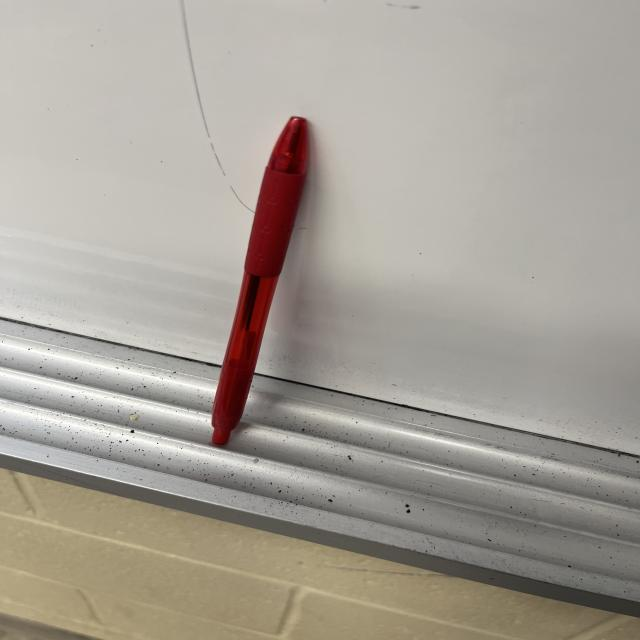pen: (211, 114, 310, 446)
